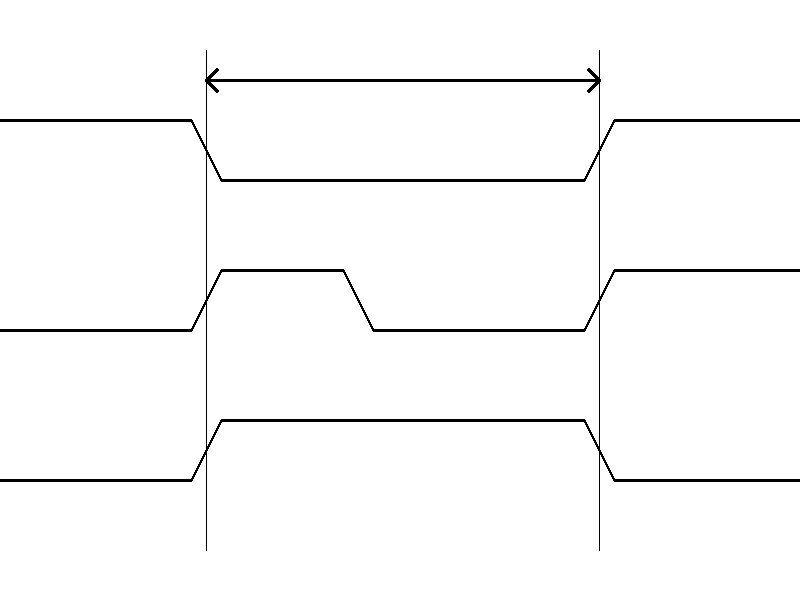double_arrow: (206, 65, 599, 95)
